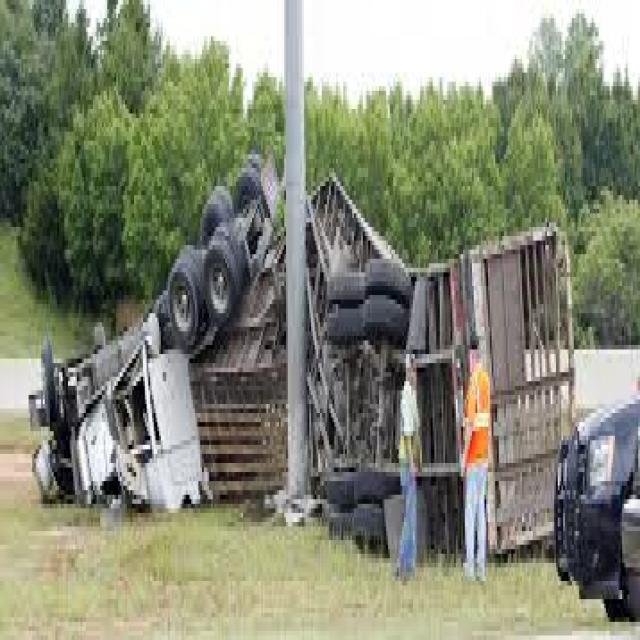accident: (19, 163, 572, 546)
